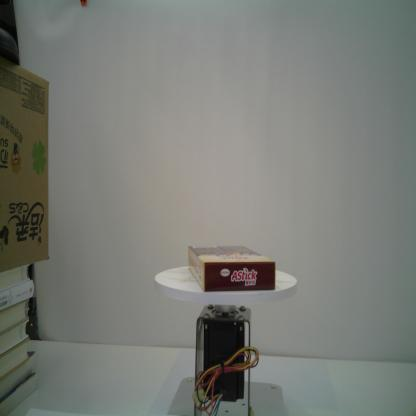Dessert: (187, 243, 277, 293)
